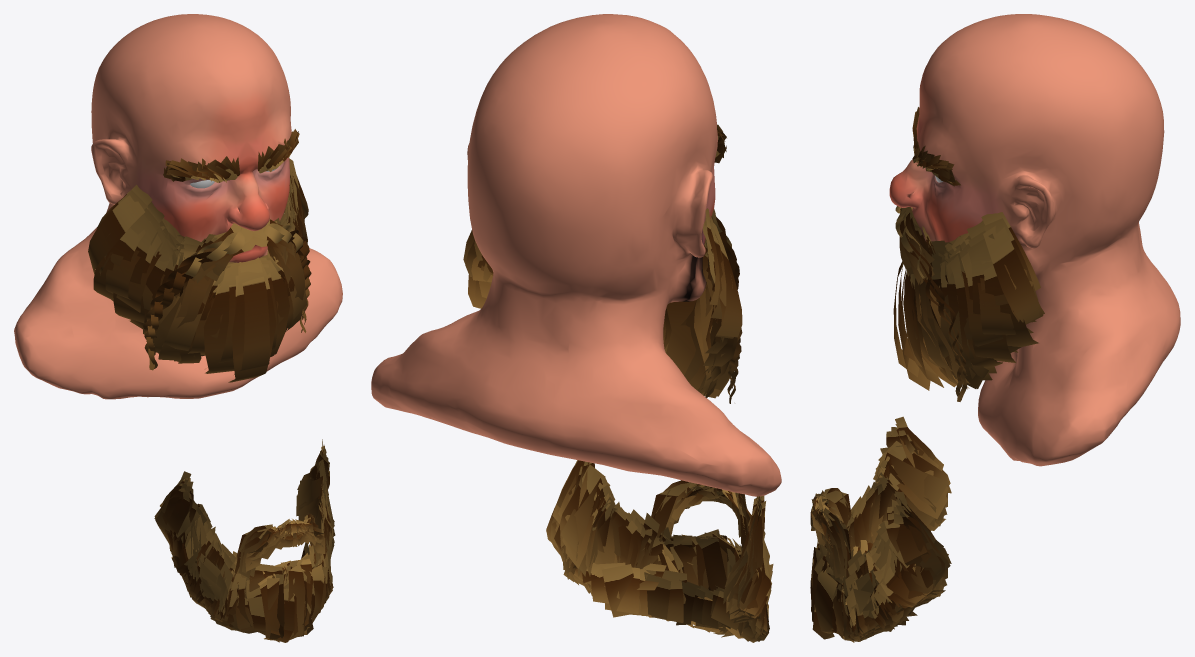
File: beardtest.fbx
3 renders of one model, left to right at view 1: azimuth 30°, elevation 25°; view 2: azimuth 150°, elevation 25°; view 3: azimuth 270°, elevation 25°, orthographic. The views are drawn at different scales.
Parts seen in each view (by area): view 1: Cube, BezierCurve.003, BezierCurve.001, BezierCurve.004, BezierCurve; view 2: Cube, BezierCurve.001, BezierCurve.003, BezierCurve.004; view 3: Cube, BezierCurve.001, BezierCurve.003, BezierCurve.004, BezierCurve.
Boxes of the visible parts, <box> form: Cube: <box>14,14,342,399</box>; BezierCurve.003: <box>88,158,308,382</box>; BezierCurve.001: <box>154,439,335,642</box>; BezierCurve.004: <box>143,223,311,370</box>; BezierCurve: <box>163,129,299,182</box>; Cube: <box>371,14,781,496</box>; BezierCurve.001: <box>546,460,773,642</box>; BezierCurve.003: <box>463,208,742,398</box>; BezierCurve.004: <box>711,209,742,403</box>; Cube: <box>889,14,1180,466</box>; BezierCurve.001: <box>810,416,951,642</box>; BezierCurve.003: <box>893,207,1044,390</box>; BezierCurve.004: <box>895,206,967,401</box>; BezierCurve: <box>912,107,960,186</box>.
Bounding box in the file's own units: 270 × 451 × 248.
